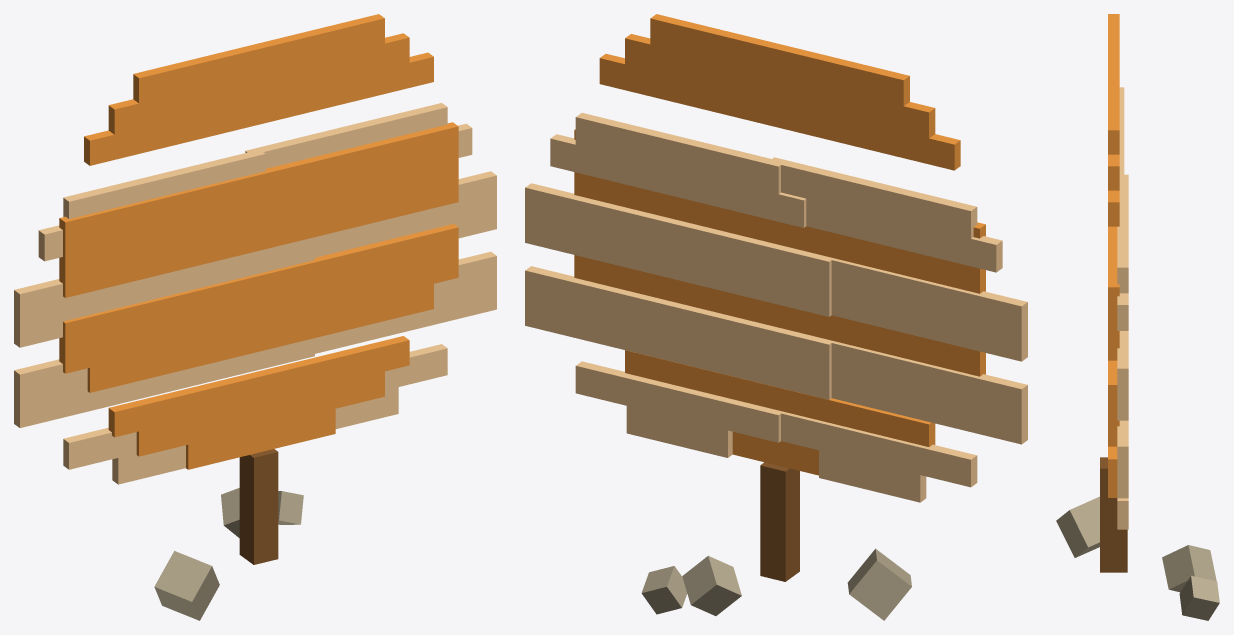
Rendered from CORAL_Fan.glb.
3 views of the same model, side by side, from view 1: azimuth 30°, elevation 25°; view 2: azimuth 150°, elevation 25°; view 3: azimuth 270°, elevation 25° (orthographic). The views are drawn at different scales.
Parts seen in each view (by area): view 1: CORAL_Fan_Main, CORAL_Fan_Tip, CORAL_Fan_Rock, CORAL_Fan_Stem; view 2: CORAL_Fan_Tip, CORAL_Fan_Main, CORAL_Fan_Rock, CORAL_Fan_Stem; view 3: CORAL_Fan_Main, CORAL_Fan_Rock, CORAL_Fan_Tip, CORAL_Fan_Stem.
Part boxes in pixels (x1,y1,x2,y2): CORAL_Fan_Main: [59, 14, 458, 469]; CORAL_Fan_Tip: [14, 103, 496, 484]; CORAL_Fan_Rock: [154, 488, 303, 620]; CORAL_Fan_Stem: [239, 449, 278, 564]; CORAL_Fan_Tip: [525, 112, 1027, 502]; CORAL_Fan_Main: [574, 14, 985, 475]; CORAL_Fan_Rock: [641, 548, 911, 620]; CORAL_Fan_Stem: [760, 462, 799, 581]; CORAL_Fan_Main: [1108, 14, 1119, 497]; CORAL_Fan_Rock: [1056, 496, 1219, 620]; CORAL_Fan_Tip: [1117, 87, 1128, 529]; CORAL_Fan_Stem: [1100, 457, 1127, 572].
Bounding box in the file's own units: 2.34 × 2.52 × 0.7149.
